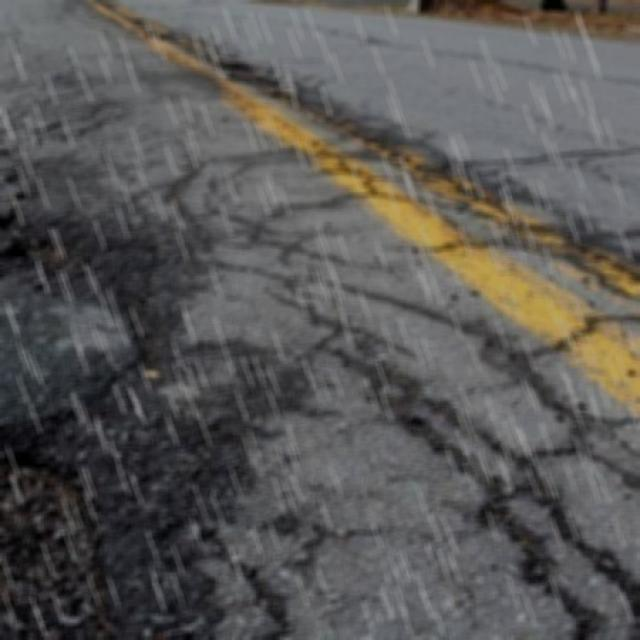road-pothole: (4, 159, 149, 639)
